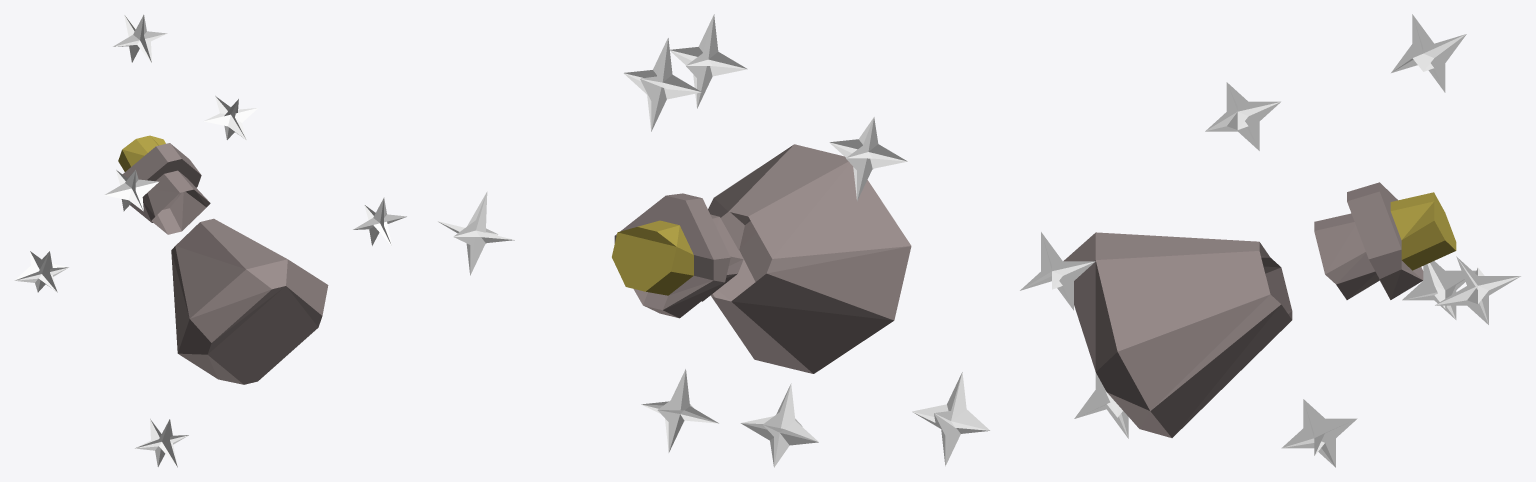
The model's file is gfx_193.obj.
3 renders of one model, left to right at view 1: azimuth 30°, elevation 25°; view 2: azimuth 150°, elevation 25°; view 3: azimuth 270°, elevation 25°, orthographic. The views are drawn at different scales.
Size of the model in its own units: 0.2891 by 0.3828 by 0.3594.
